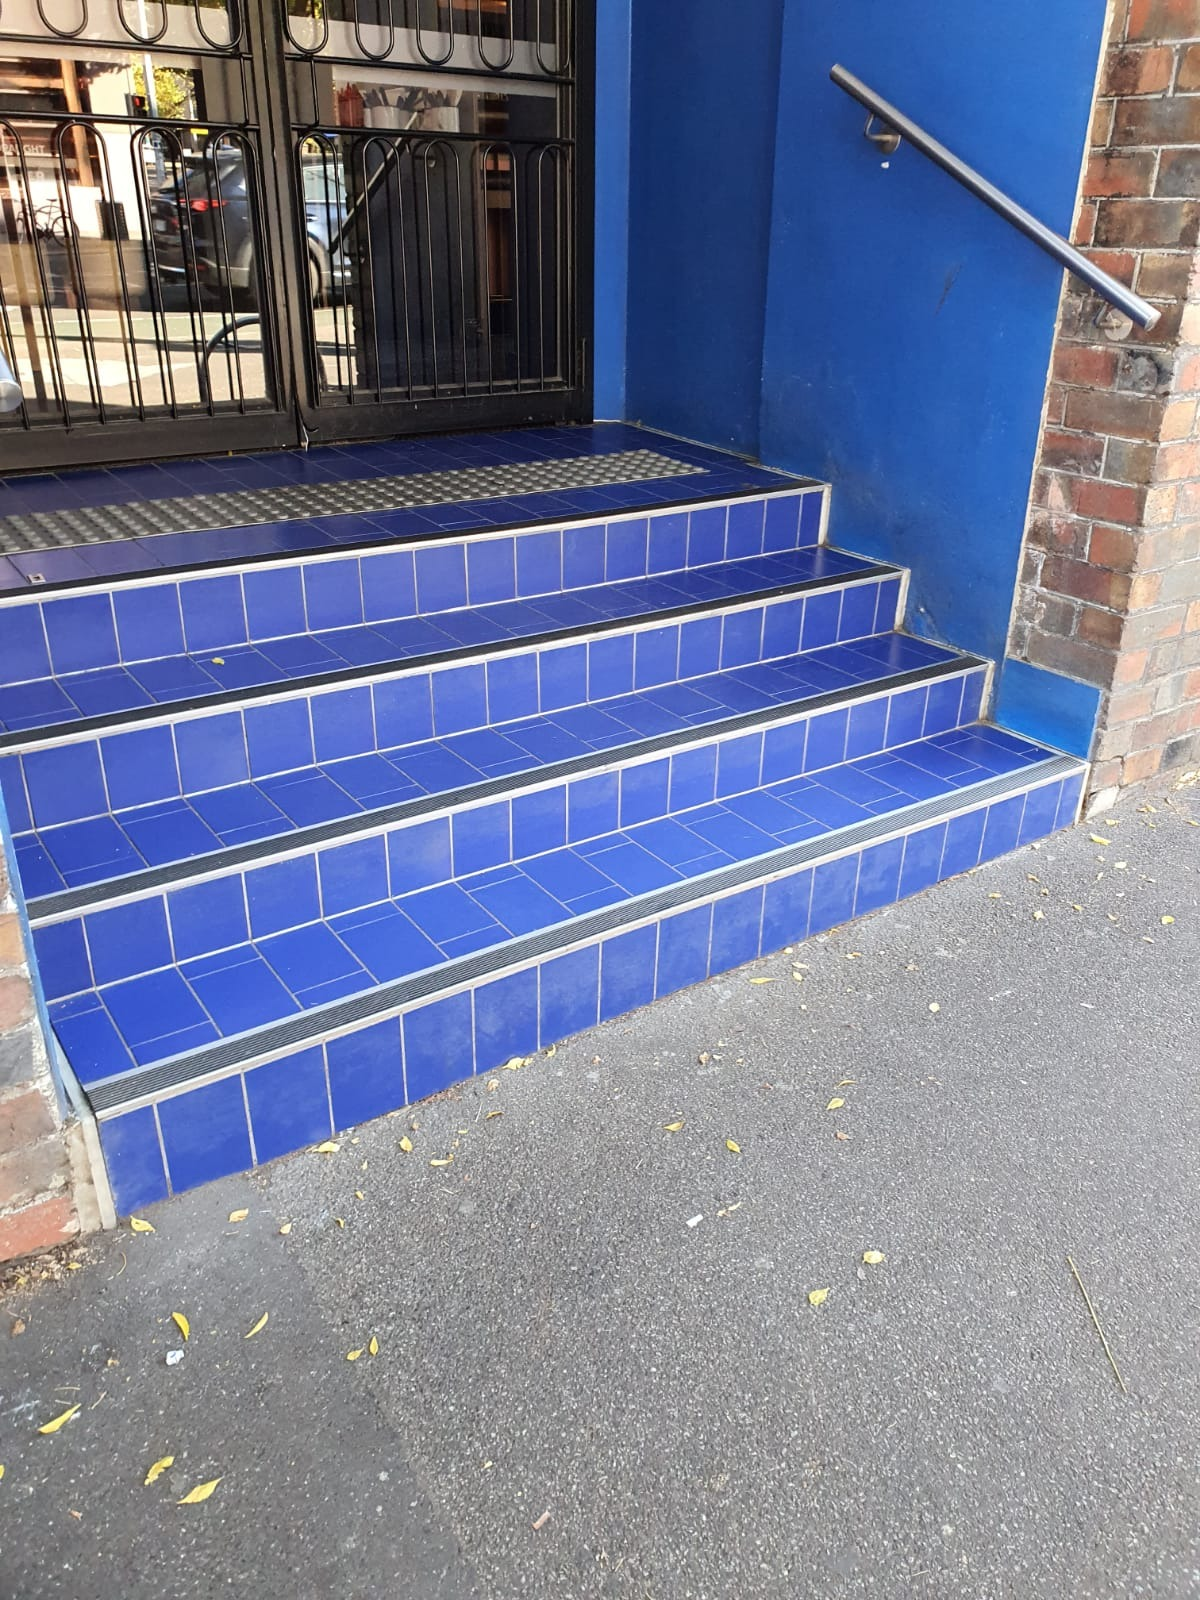upstairs: (77, 534, 1029, 1265)
